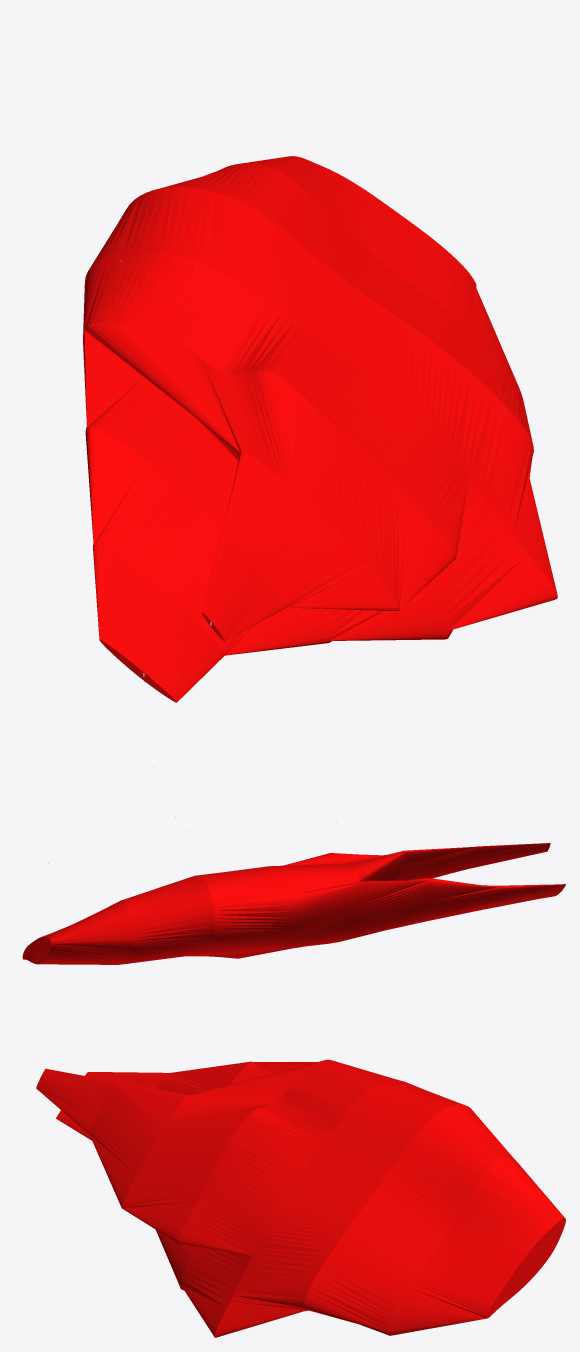
File: NoLod_6.glb
The picture shows the model from 3 angles, top to bottom: view 1: azimuth 30°, elevation 25°; view 2: azimuth 150°, elevation 25°; view 3: azimuth 270°, elevation 25°; orthographic projection. The views are drawn at different scales.
Parts seen in each view (by area): view 1: rtc; view 2: rtc; view 3: rtc.
Boxes of the visible parts, x1,y1,x2,y2 form: rtc: (83,156,557,702); rtc: (22,843,565,964); rtc: (36,1059,565,1337).
Bounding box in the file's own units: 572 × 295 × 620.
